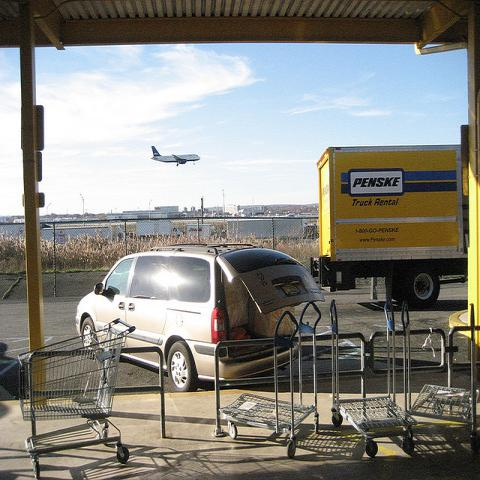car: (73, 244, 326, 393)
truck: (316, 147, 480, 324)
